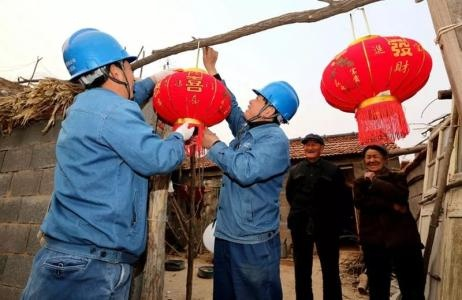blue: (64, 24, 138, 103), (246, 78, 298, 129)
none: (361, 144, 387, 174), (299, 132, 324, 161)
